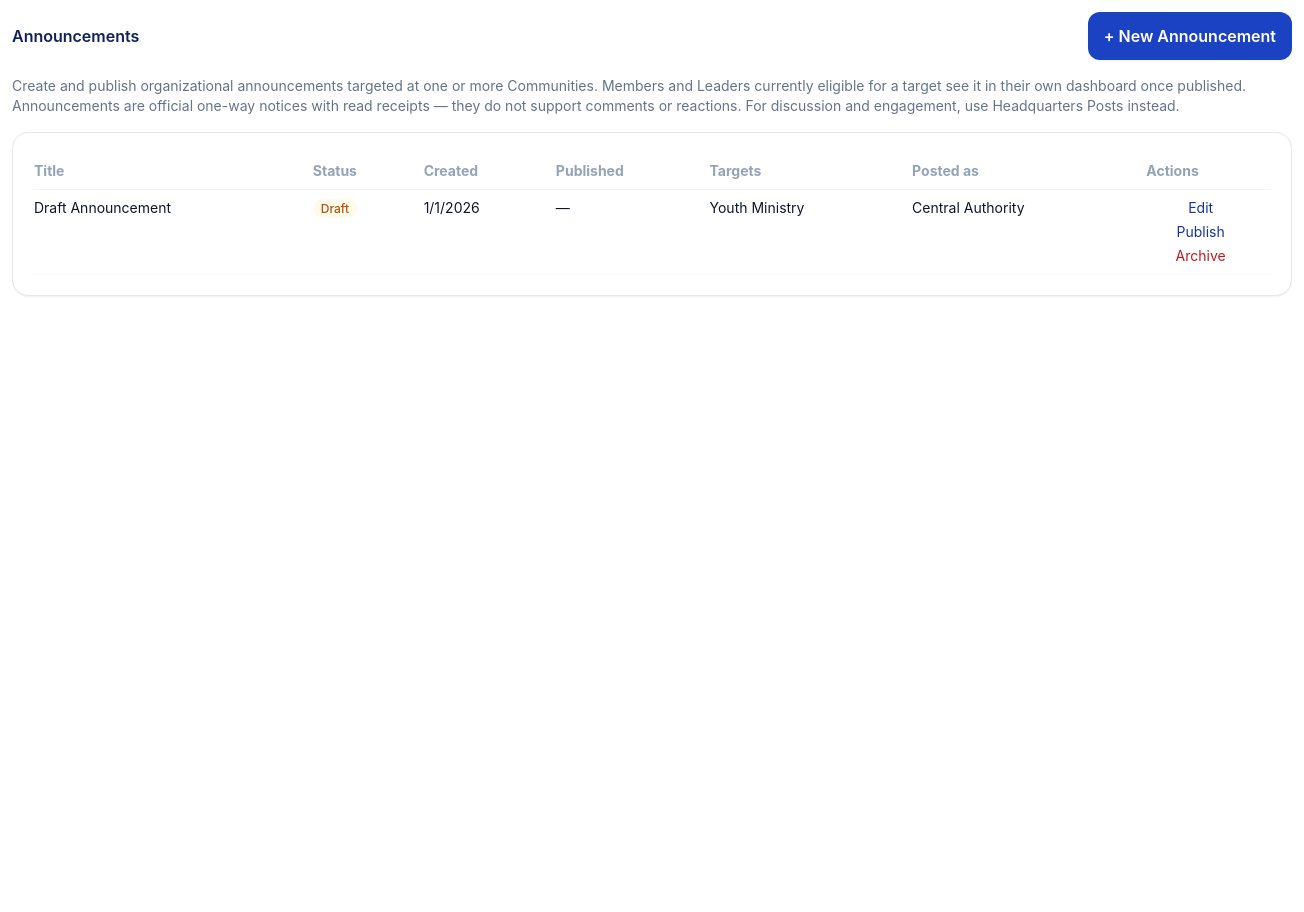
Test: AnnouncementsTab (Admin) › opens the edit form pre-filled for a draft and saves via PATCH
Later steps or results of the test are not shown.
Click the button "Edit": (1201, 208) [1146,198,1255,218]
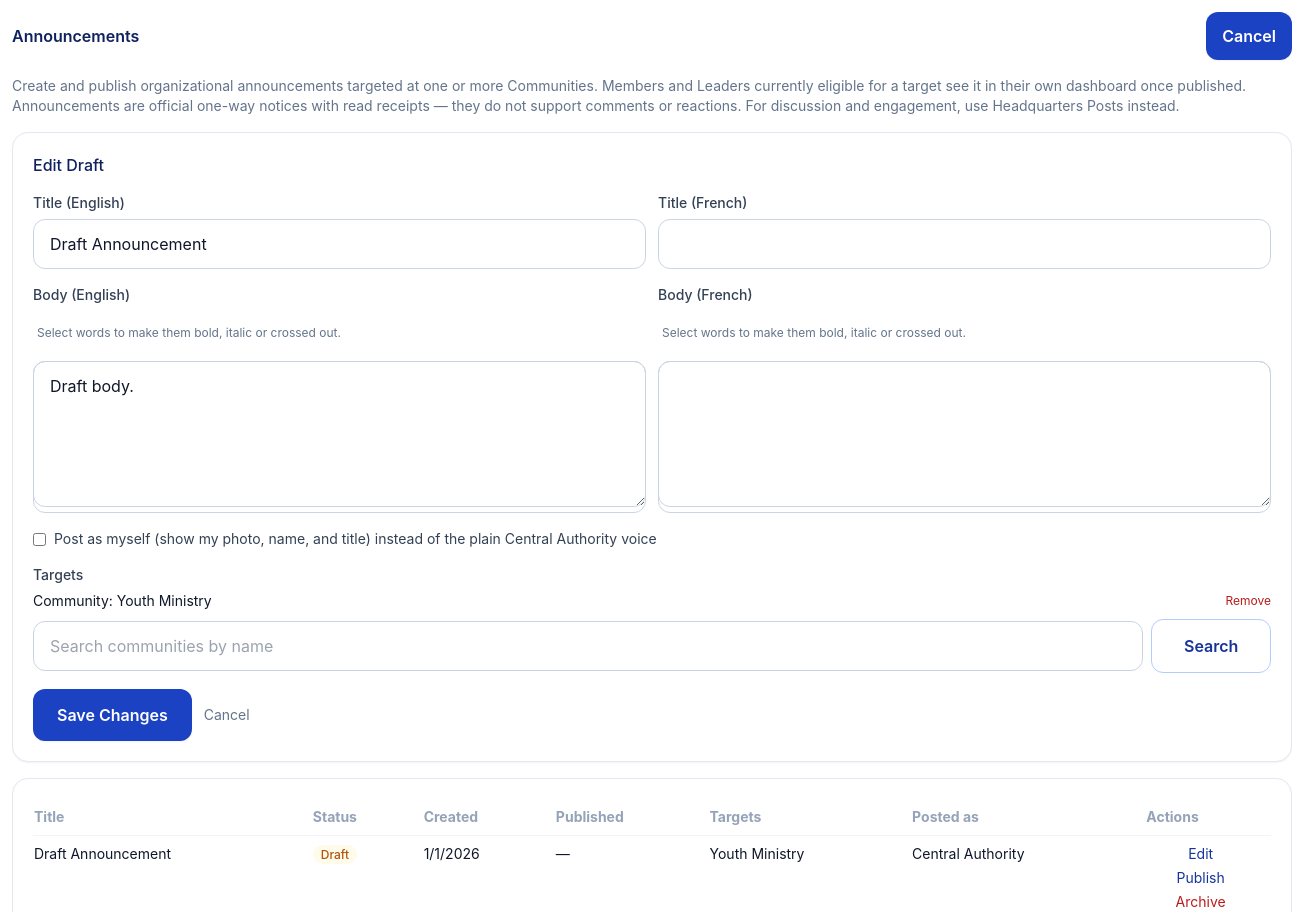
Check: the field labelled "Title (English)" holds "Draft Announcement", box [33,219,646,269]
